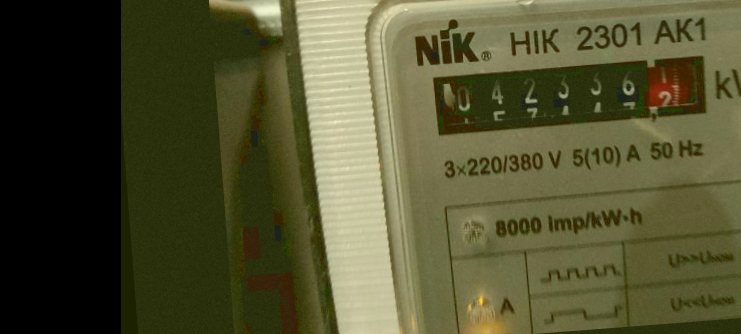0: (454, 83, 472, 112)
1: (656, 62, 670, 85)
2: (522, 74, 540, 104), (656, 88, 674, 107)
3: (585, 66, 604, 97), (554, 70, 571, 99)
4: (488, 75, 507, 105)
6: (619, 65, 639, 96)
screen: (421, 41, 722, 144)
